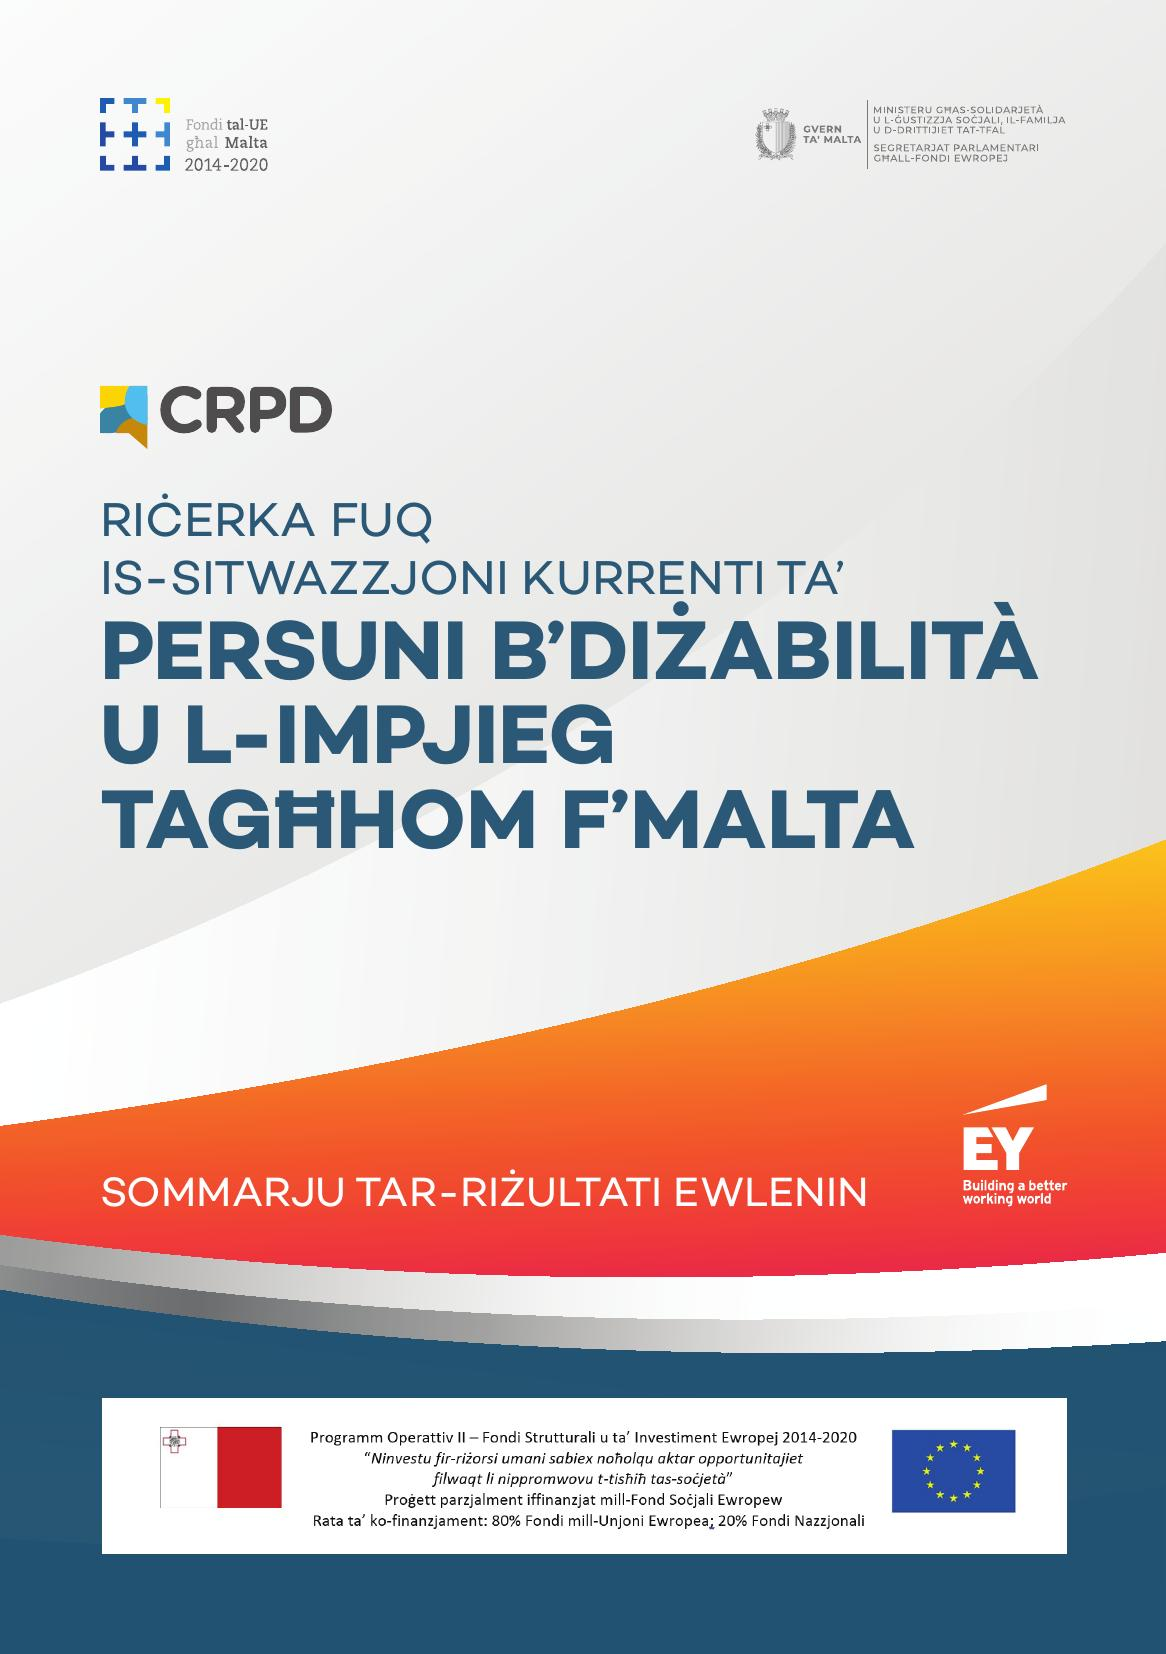text: (93, 490, 1047, 871), (76, 1159, 891, 1217)
